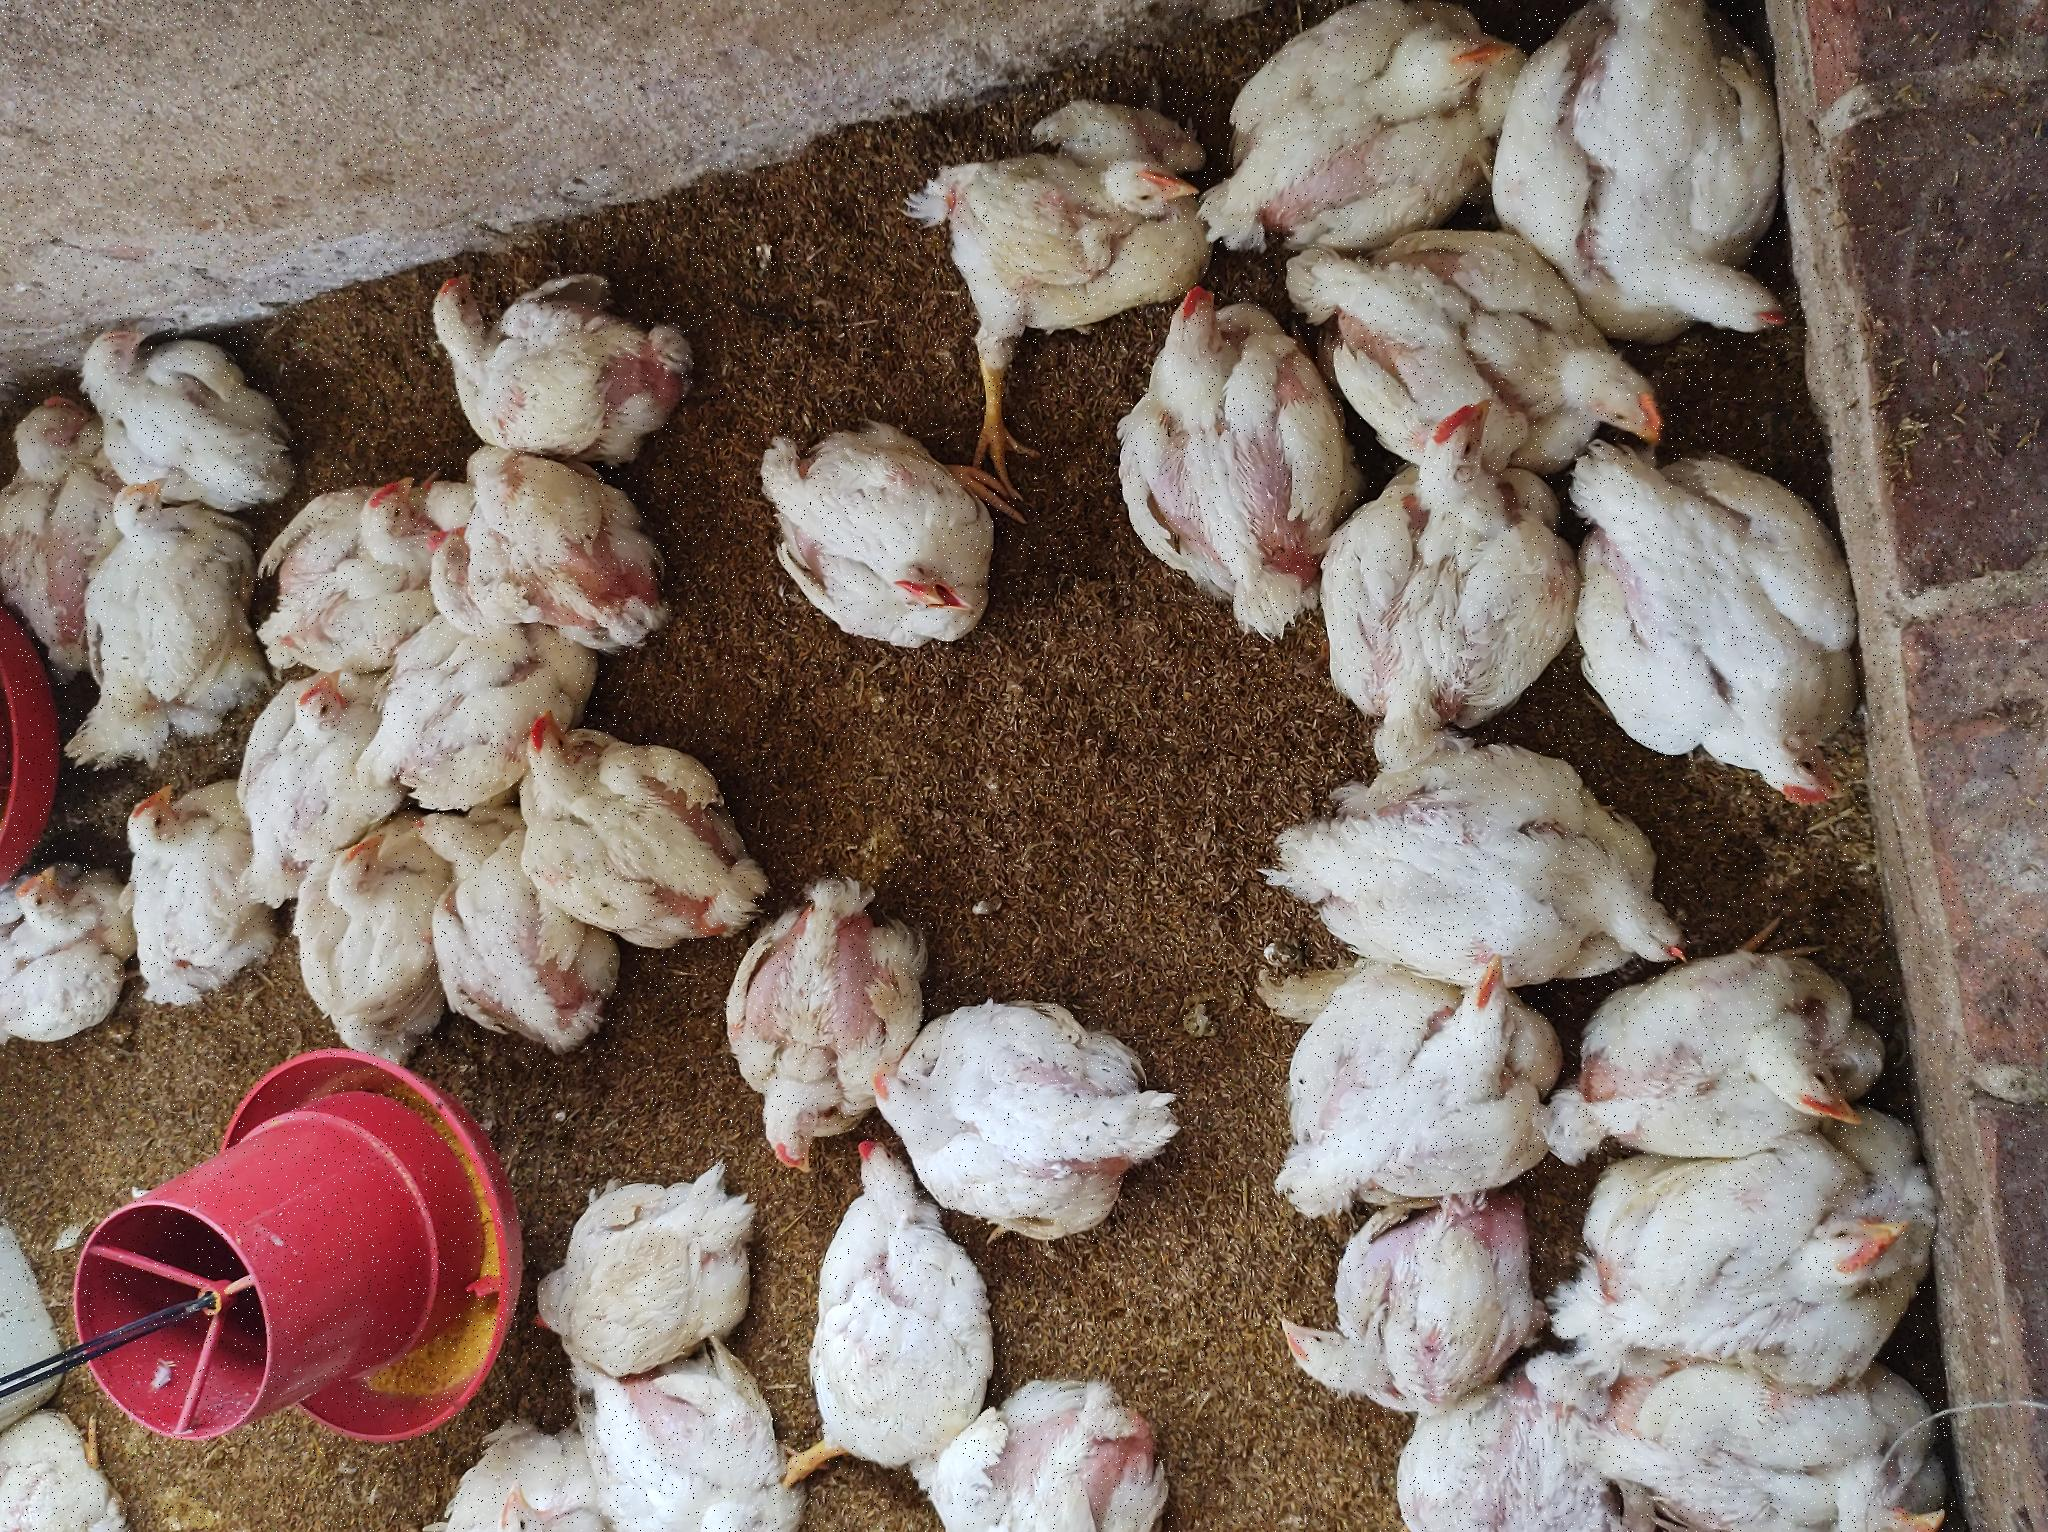Pollos: (288, 871, 544, 1196), (883, 1098, 1240, 1328), (1078, 386, 1293, 732), (66, 785, 393, 996), (1200, 945, 1445, 1218), (883, 763, 1120, 1028), (1324, 1210, 1533, 1508), (336, 1260, 565, 1532), (816, 1329, 1121, 1532), (558, 1279, 792, 1532), (586, 525, 837, 755), (122, 1270, 336, 1532), (376, 732, 650, 916), (1088, 1312, 1305, 1532), (172, 536, 372, 758), (478, 417, 716, 600), (2, 925, 167, 1180), (878, 468, 1083, 674), (792, 87, 1054, 233), (1055, 85, 1224, 311), (2, 576, 148, 817), (508, 130, 761, 264), (690, 209, 870, 391), (854, 254, 1054, 417), (475, 286, 705, 426), (489, 2, 661, 121), (2, 418, 109, 595), (2, 2, 114, 154), (878, 5, 1063, 92), (898, 396, 1001, 484)
